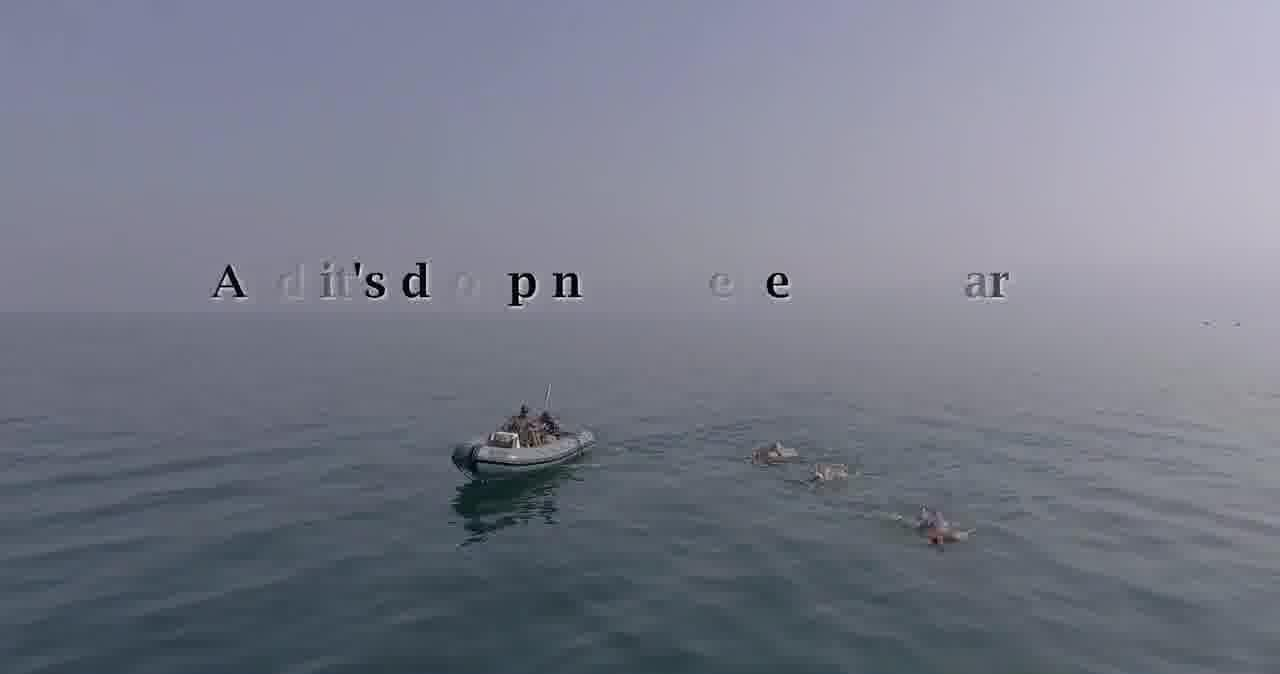human: (909, 510, 966, 560), (797, 462, 852, 493), (744, 432, 783, 470)
